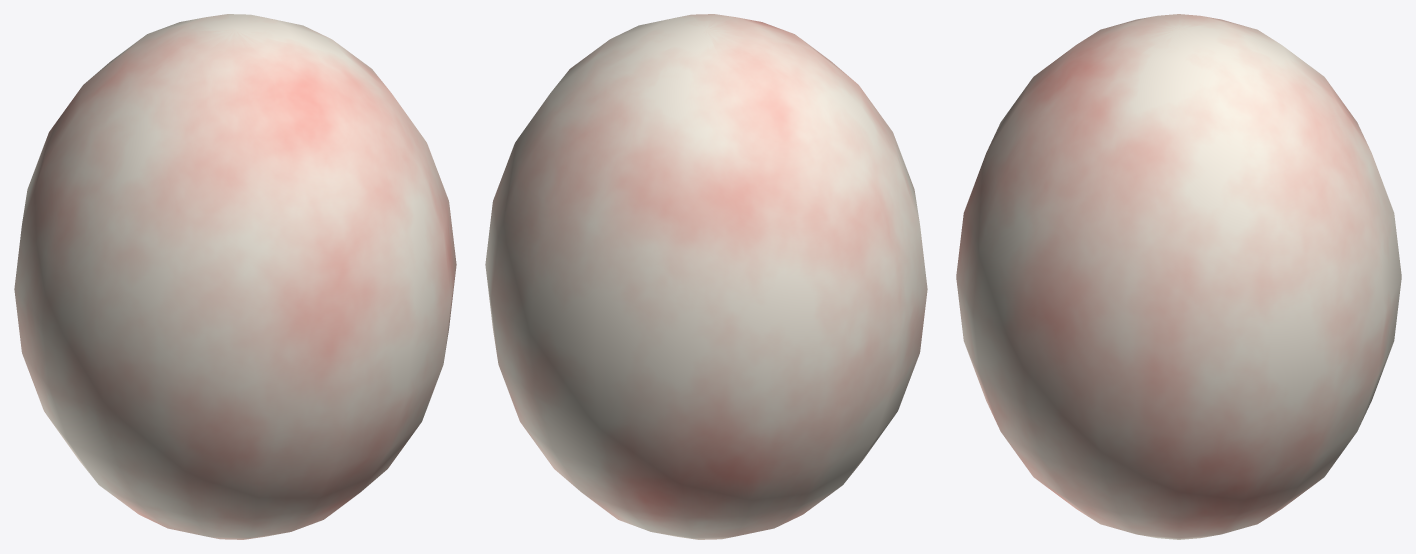
File: egg.glb
The picture shows the model from 3 angles, left to right: view 1: azimuth 30°, elevation 25°; view 2: azimuth 150°, elevation 25°; view 3: azimuth 270°, elevation 25°; orthographic projection.
Visible parts, largest first — view 1: PetaruEgg_body_0; view 2: PetaruEgg_body_0; view 3: PetaruEgg_body_0.
Part boxes in pixels (x1,y1,x2,y2): PetaruEgg_body_0: (14, 14, 456, 539); PetaruEgg_body_0: (485, 14, 927, 539); PetaruEgg_body_0: (956, 14, 1401, 539).
Size of the model in its own units: 1.8 by 2.21 by 1.8.
Materials: 1 (1 with a texture image).
